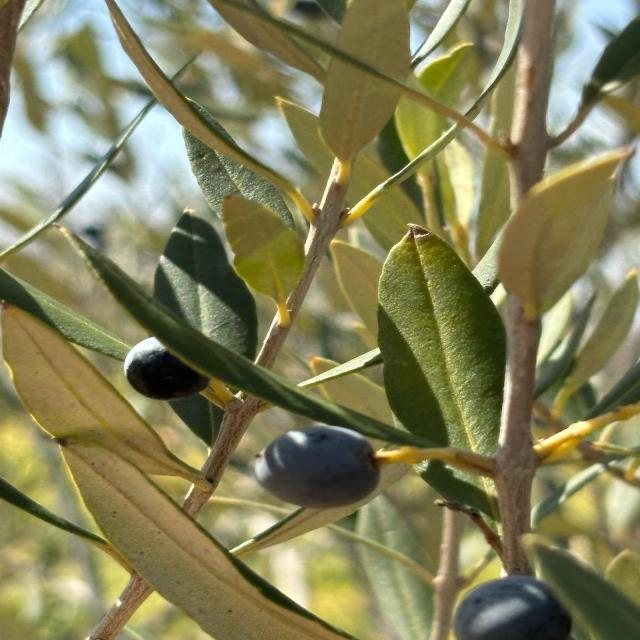Healthy: (59, 438, 352, 640), (255, 425, 381, 508)
